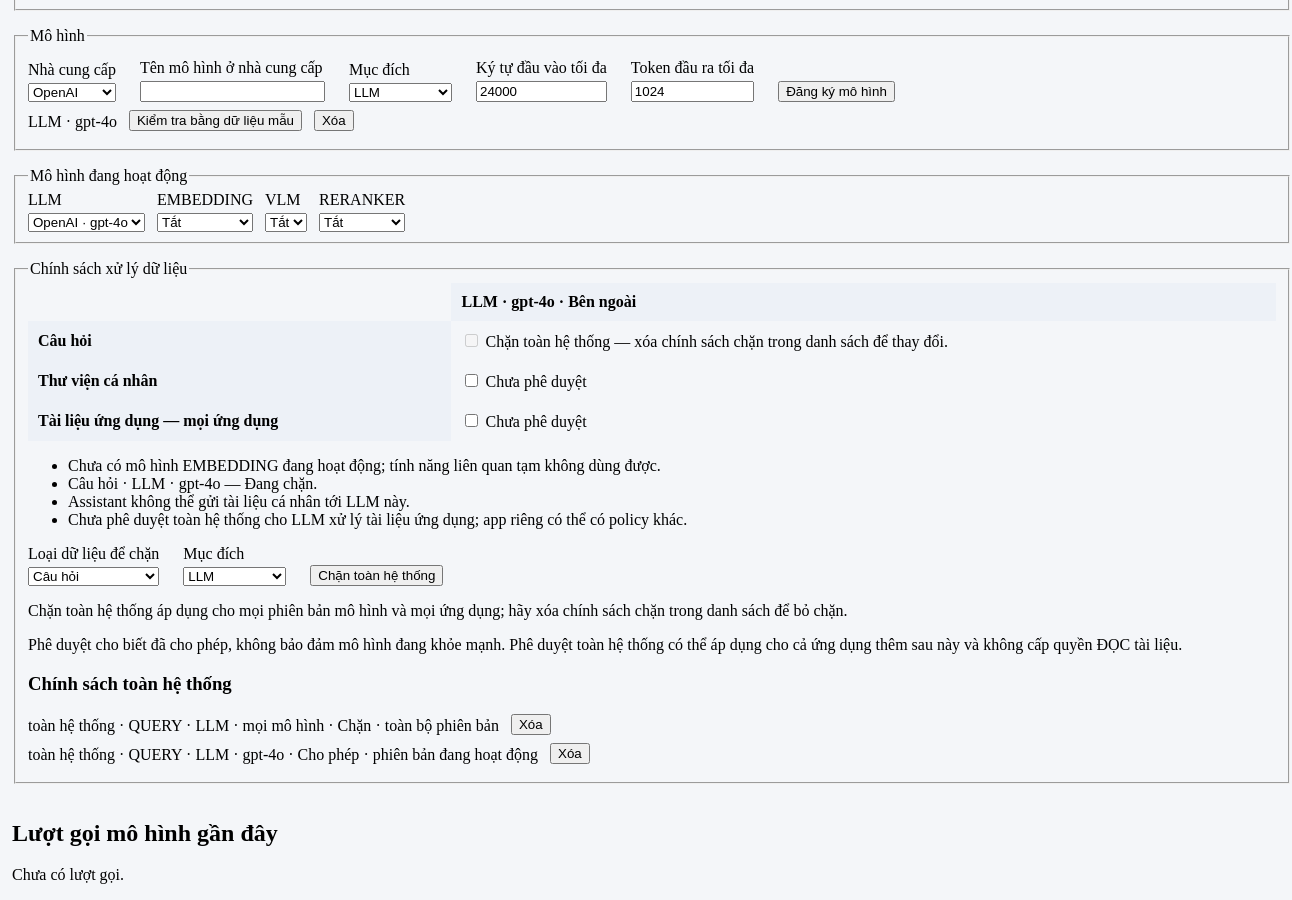
Test case: disables a cell when a wildcard global DENY applies and removing it exposes the allow
(page scrolled)
Check: the checkbox named "Câu hỏi · LLM · gpt-4o" is disabled, box 466,334 -> 478,347
Click the button named "Xóa chính sách toàn hệ thống · QUERY · LLM · mọi mô hình · Chặn": (531, 724) 511,714 -> 551,735
(page scrolled)
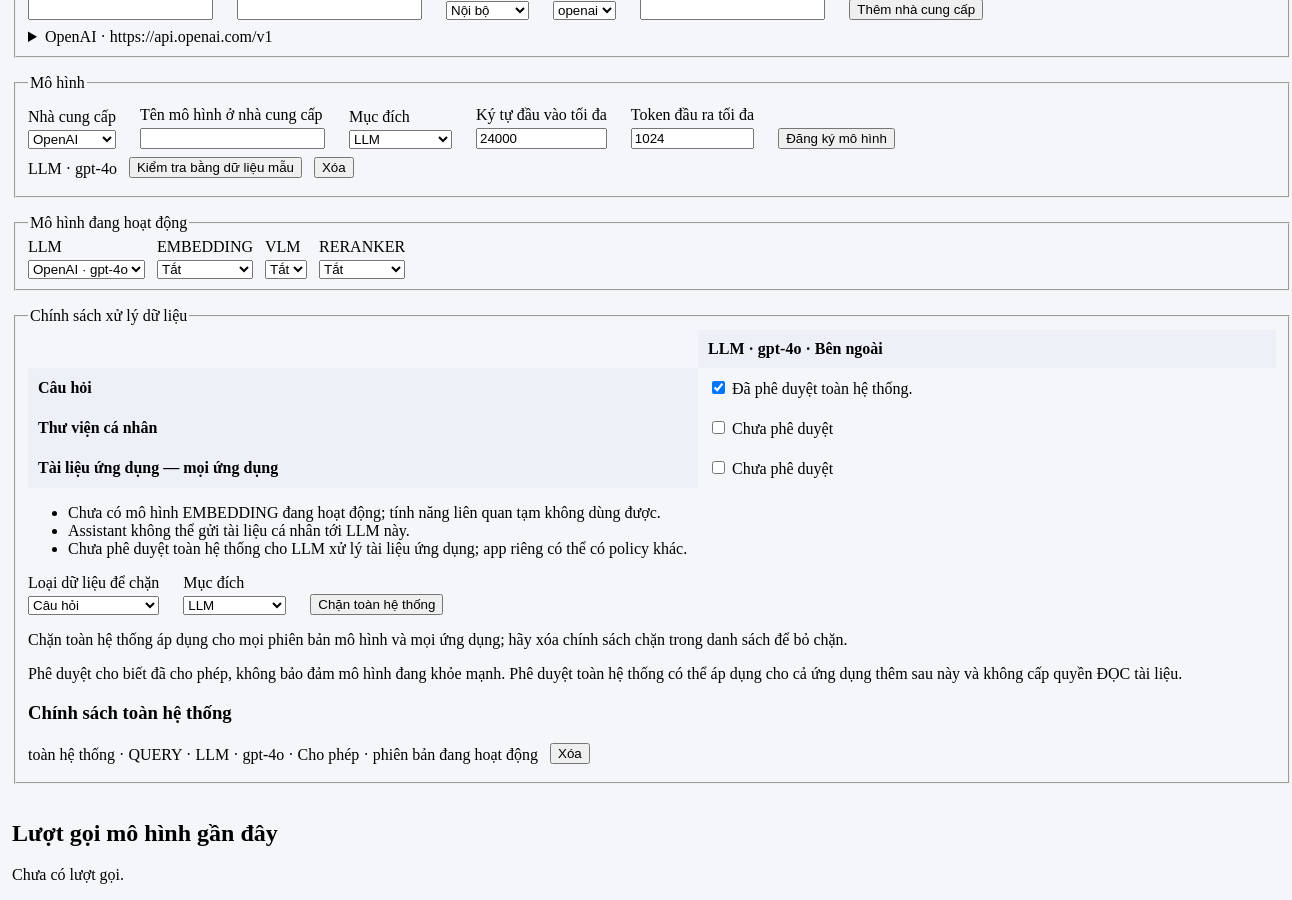
Check: the checkbox named "Câu hỏi · LLM · gpt-4o" is enabled, box 712,381 -> 725,394
Check: the checkbox named "Câu hỏi · LLM · gpt-4o" is checked, box 712,381 -> 725,394
